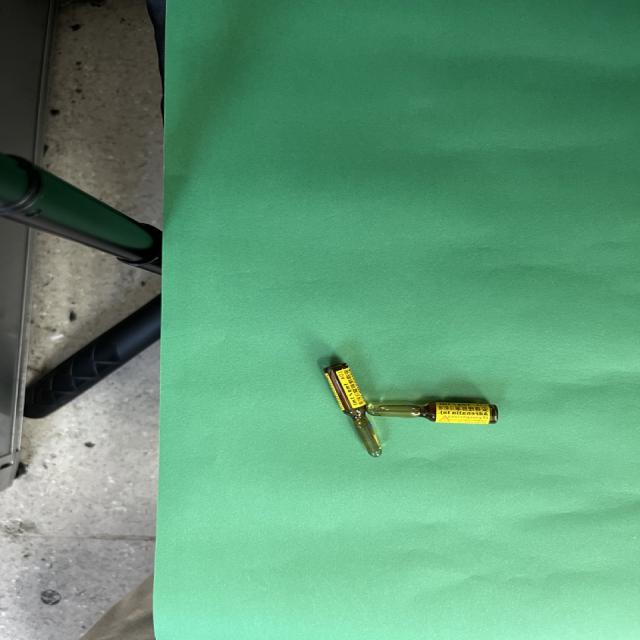Ampoules: (324, 363, 381, 457), (368, 402, 497, 424)
